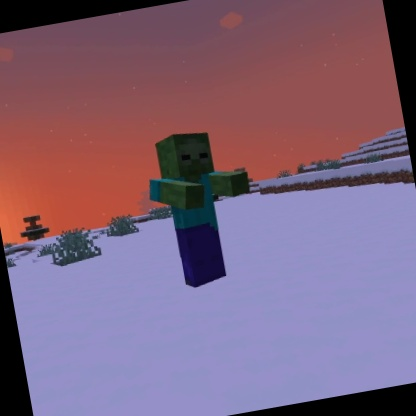zombie: (134, 119, 270, 299)
